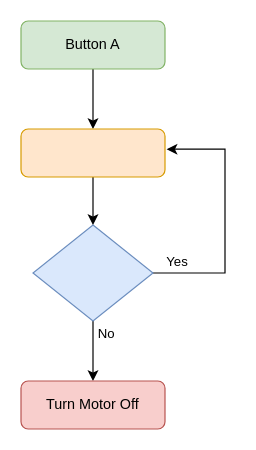
This 256x450 diagram has some shape labels left out. Each missing label, with the centre of its shape:
"Distance Sensor detects corral" goes at (92,272).
"Turn Motor On" goes at (92,152).
